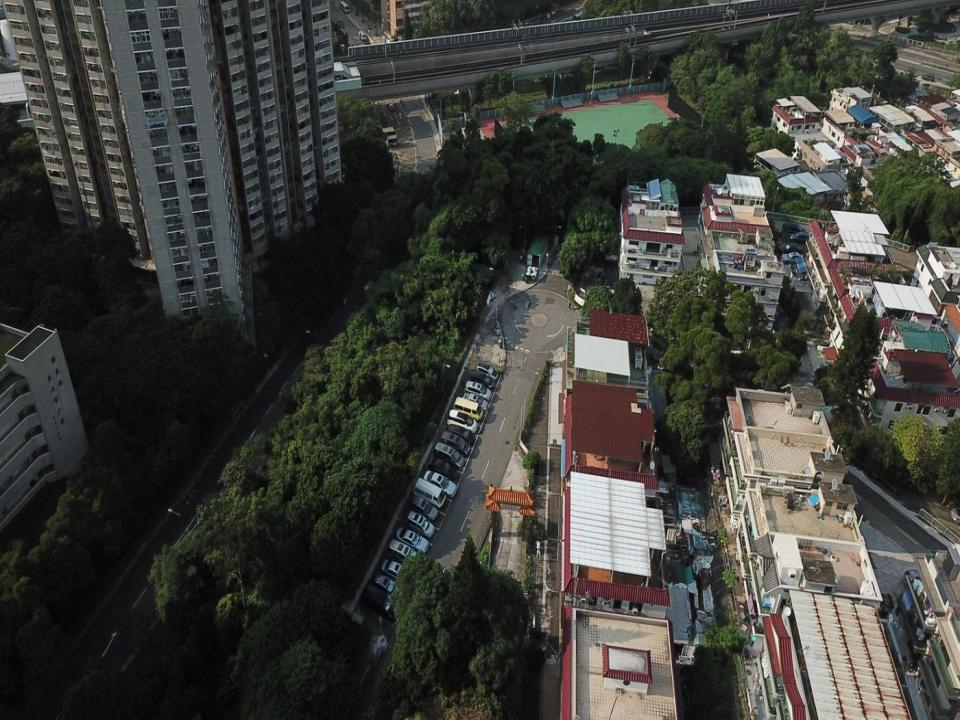bus: (360, 125, 398, 154), (339, 0, 350, 15)
car: (422, 470, 458, 498), (395, 527, 429, 556), (380, 558, 412, 584), (446, 408, 478, 434), (410, 493, 438, 522), (406, 510, 436, 537), (902, 568, 930, 592), (463, 379, 492, 402), (373, 573, 400, 597), (446, 423, 475, 445), (461, 392, 489, 414), (430, 456, 455, 480), (468, 368, 494, 389), (474, 361, 498, 381), (780, 251, 804, 265), (778, 242, 804, 254), (789, 230, 811, 243), (920, 72, 936, 82), (335, 18, 345, 30), (387, 102, 395, 112)
van: (360, 583, 400, 621), (413, 477, 446, 509), (386, 538, 420, 567), (434, 441, 464, 470), (452, 396, 484, 422), (440, 429, 470, 456), (782, 221, 805, 235), (357, 29, 366, 41)
